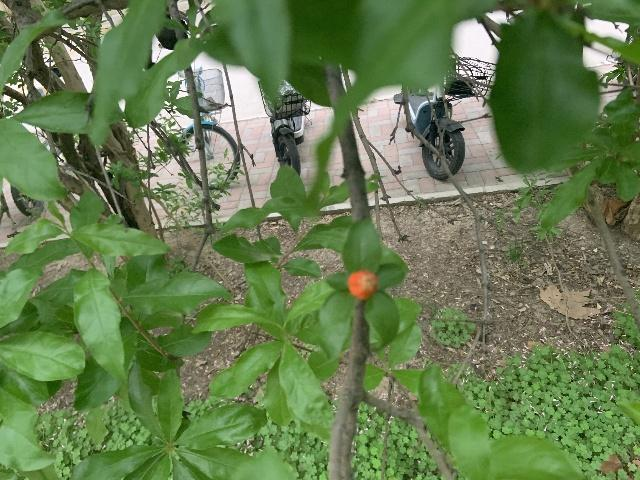bud: (347, 270, 378, 300)
